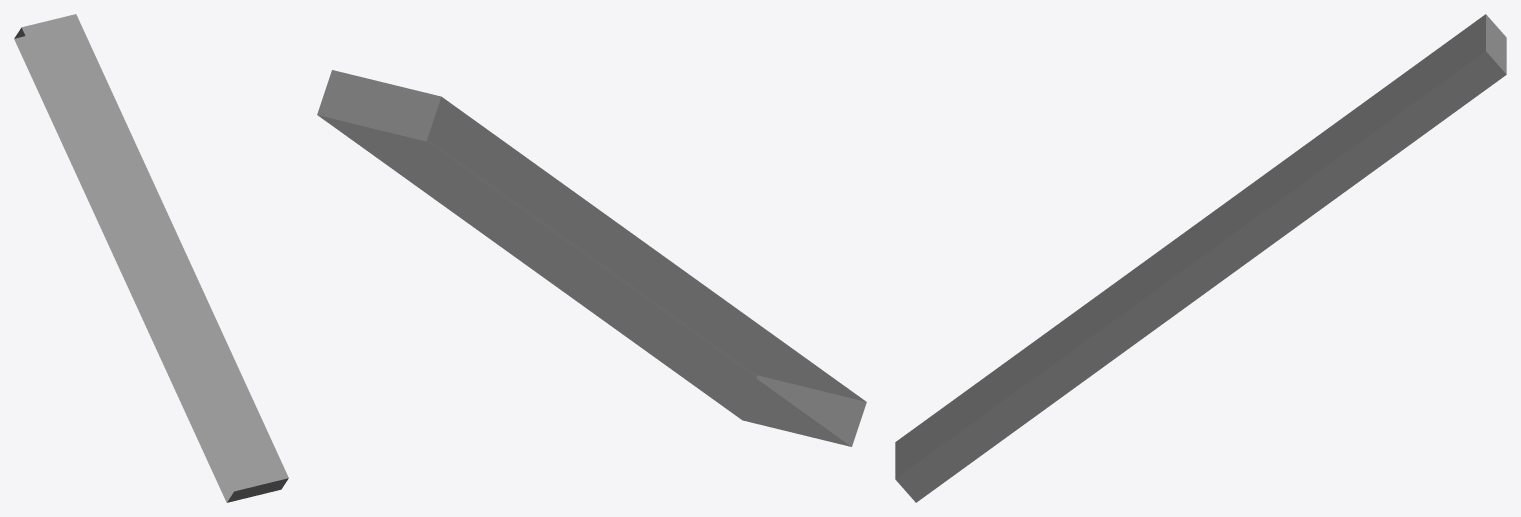
Rendered from SW_ENV_Railing_StairWall_05_Collision.fbx.
3 views of the same model, side by side, from view 1: azimuth 30°, elevation 25°; view 2: azimuth 150°, elevation 25°; view 3: azimuth 270°, elevation 25° (orthographic). The views are drawn at different scales.
Parts seen in each view (by area): view 1: SW_ENV_Railing_StairWall_05_Collision; view 2: SW_ENV_Railing_StairWall_05_Collision; view 3: SW_ENV_Railing_StairWall_05_Collision.
Boxes of the visible parts, x1,y1,x2,y2 form: SW_ENV_Railing_StairWall_05_Collision: (14, 14, 288, 502); SW_ENV_Railing_StairWall_05_Collision: (317, 70, 866, 446); SW_ENV_Railing_StairWall_05_Collision: (895, 14, 1506, 502).
Bounding box in the file's own units: 0.1856 × 1.06 × 1.29.
